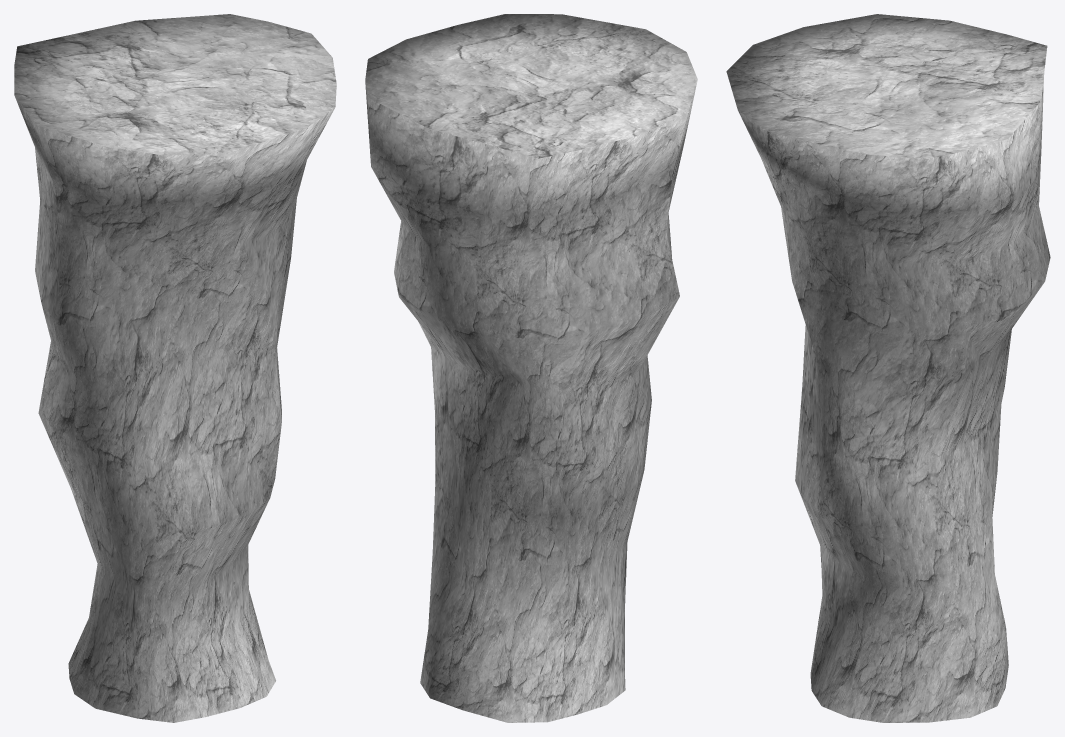
The model's file is Clif_New_01.fbx.
3 views of the same model, side by side, from view 1: azimuth 30°, elevation 25°; view 2: azimuth 150°, elevation 25°; view 3: azimuth 270°, elevation 25° (orthographic).
Visible parts, largest first — view 1: Clif_New_01; view 2: Clif_New_01; view 3: Clif_New_01.
Boxes of the visible parts, box(x1,y1,x2,y2) form: Clif_New_01: box(14, 14, 336, 722); Clif_New_01: box(365, 14, 697, 722); Clif_New_01: box(726, 14, 1050, 722).
Bounding box in the file's own units: 12218 × 23381 × 11548.
